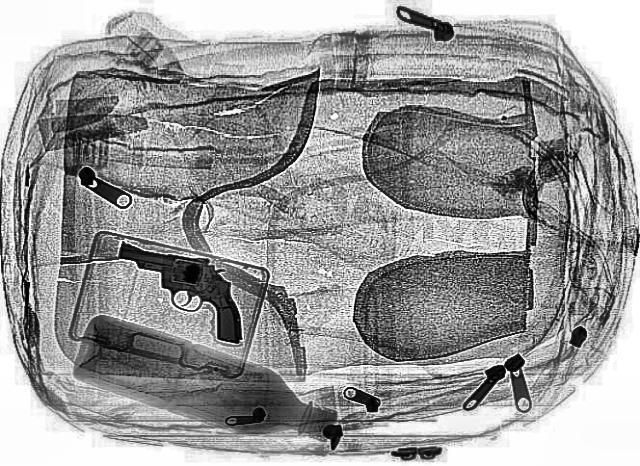Gun: (94, 243, 266, 343)
